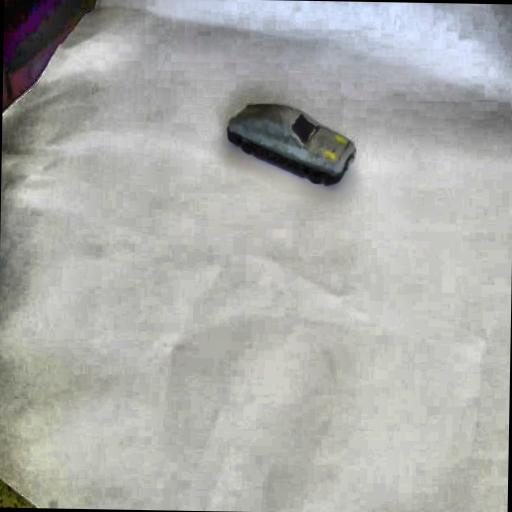normal_car: (216, 94, 358, 194)
